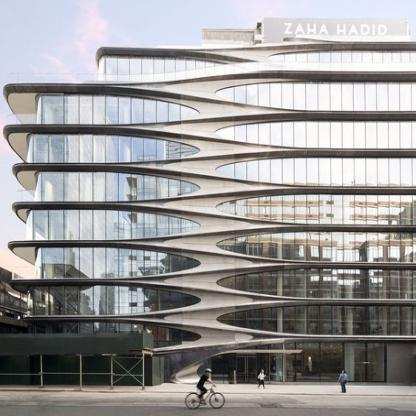Balcony: (5, 61, 416, 84), (296, 34, 410, 41), (13, 267, 42, 280), (13, 190, 41, 202), (7, 114, 36, 124), (11, 229, 34, 241), (13, 153, 33, 163)
Building Outline: (2, 16, 416, 386)
Door: (237, 356, 257, 383)
Facade: (2, 15, 416, 385)
Glass Wall: (217, 268, 416, 300), (216, 193, 416, 224), (216, 231, 416, 262), (216, 306, 416, 336), (215, 119, 416, 148), (216, 81, 416, 110), (239, 343, 385, 382), (216, 158, 416, 186), (27, 285, 201, 316), (35, 247, 201, 279), (27, 210, 200, 240), (35, 171, 200, 202), (35, 94, 200, 124), (26, 134, 200, 162), (27, 322, 201, 350), (98, 55, 251, 82), (268, 50, 416, 70), (197, 353, 236, 382)
Shop: (264, 18, 406, 42)
